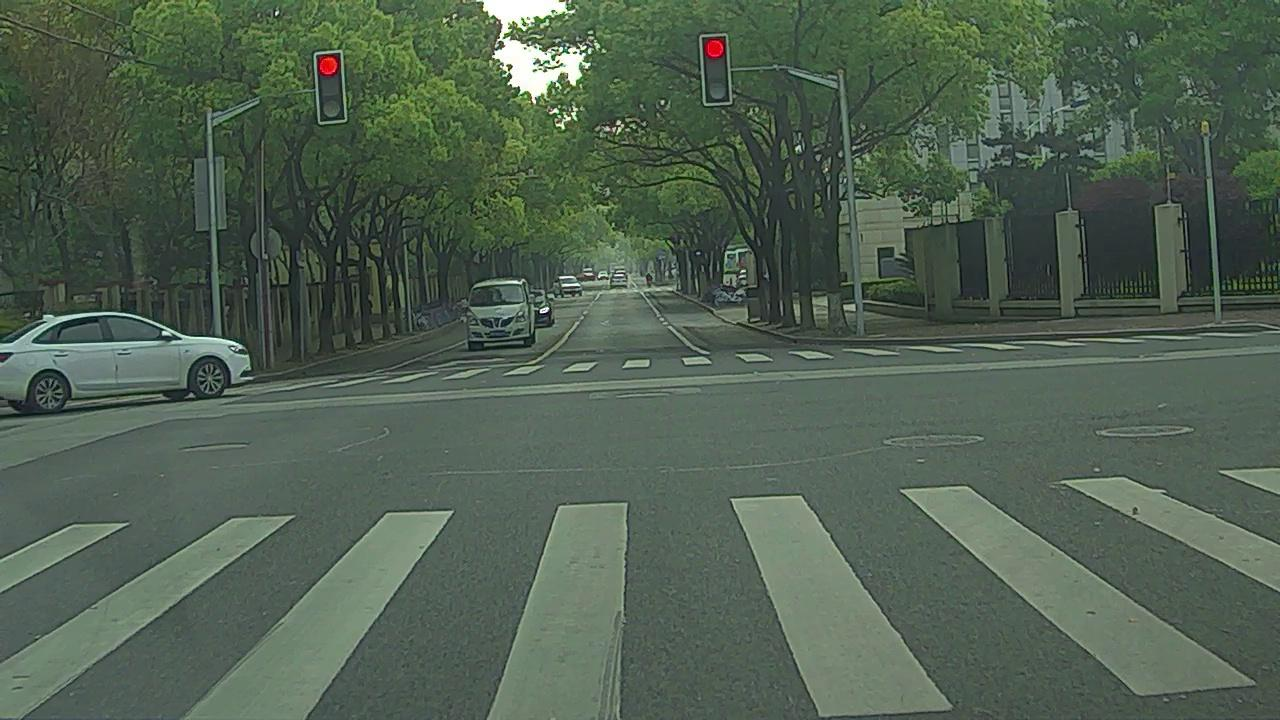traffic_light: (702, 35, 732, 105), (316, 52, 346, 121)
